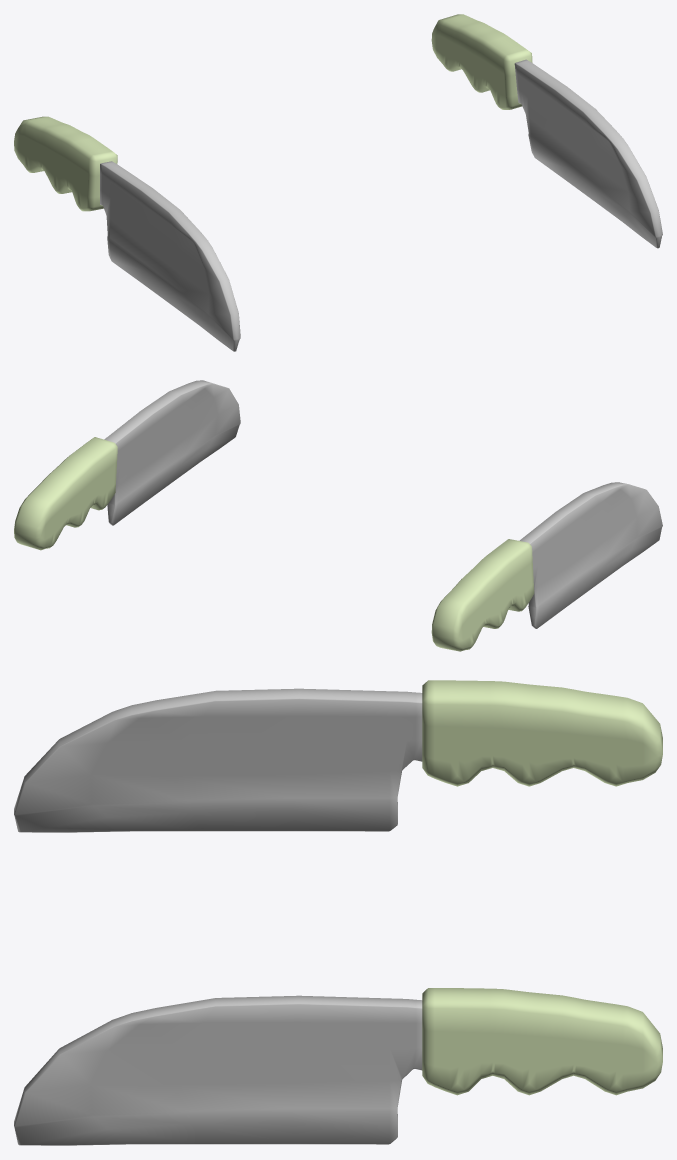
The model's file is character_animating_3_b.fbx.
The picture shows the model from 3 angles, top to bottom: view 1: azimuth 30°, elevation 25°; view 2: azimuth 150°, elevation 25°; view 3: azimuth 270°, elevation 25°; orthographic projection. The views are drawn at different scales.
Visible parts, largest first — view 1: 칼, 칼_손잡이; view 2: 칼, 칼_손잡이; view 3: 칼, 칼_손잡이.
Part boxes in pixels (x1,y1,x2,y2): 칼: (100, 59, 662, 351); 칼_손잡이: (14, 14, 532, 211); 칼: (104, 380, 662, 628); 칼_손잡이: (14, 437, 534, 651); 칼: (14, 688, 422, 1145); 칼_손잡이: (422, 680, 662, 1095).
Size of the model in its own units: 234 by 49.11 by 195.
